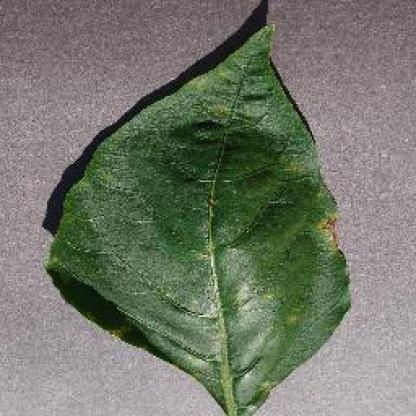good leaf: (82, 60, 298, 375)
